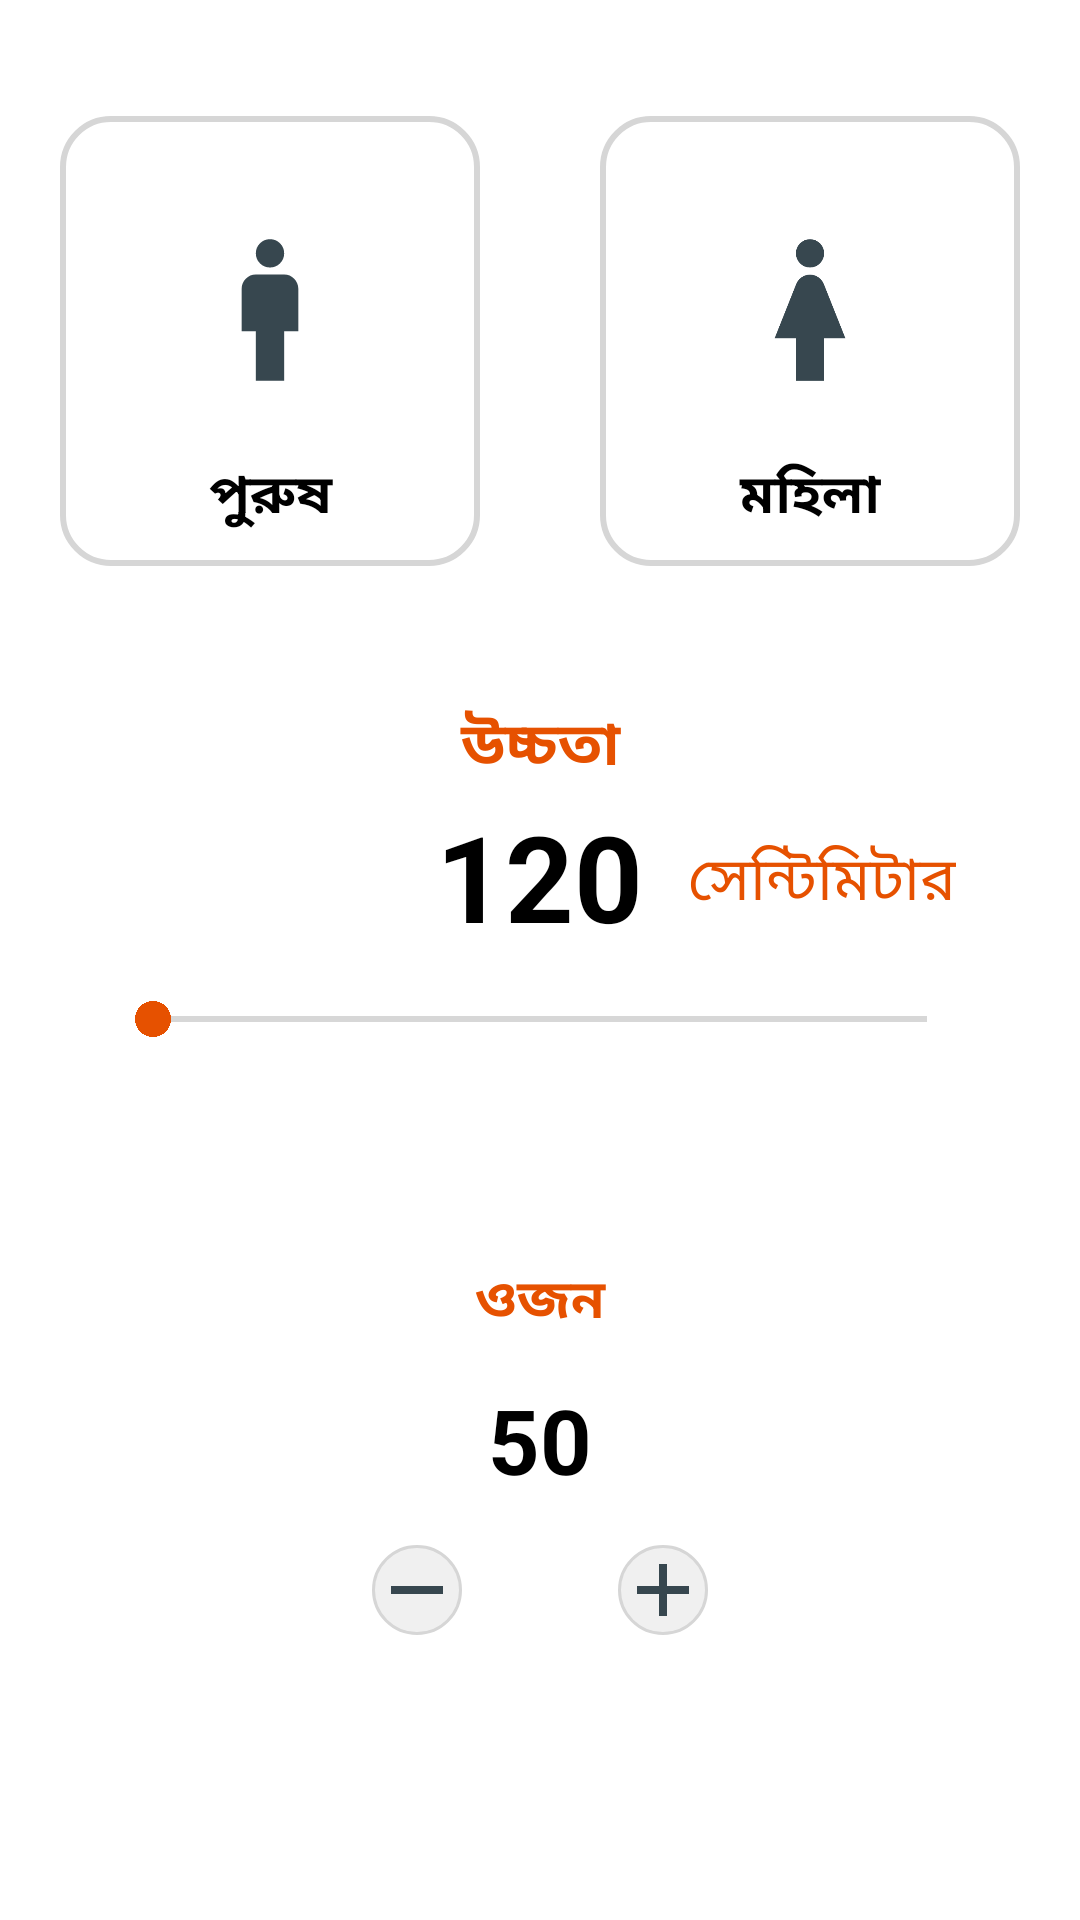

Point at icon controls on the screen. Image size 1080px x 1920px, points as point (x, y).
man: point (270, 310)
minus: point (417, 1590)
plus: point (663, 1590)
woman: point (810, 310)
